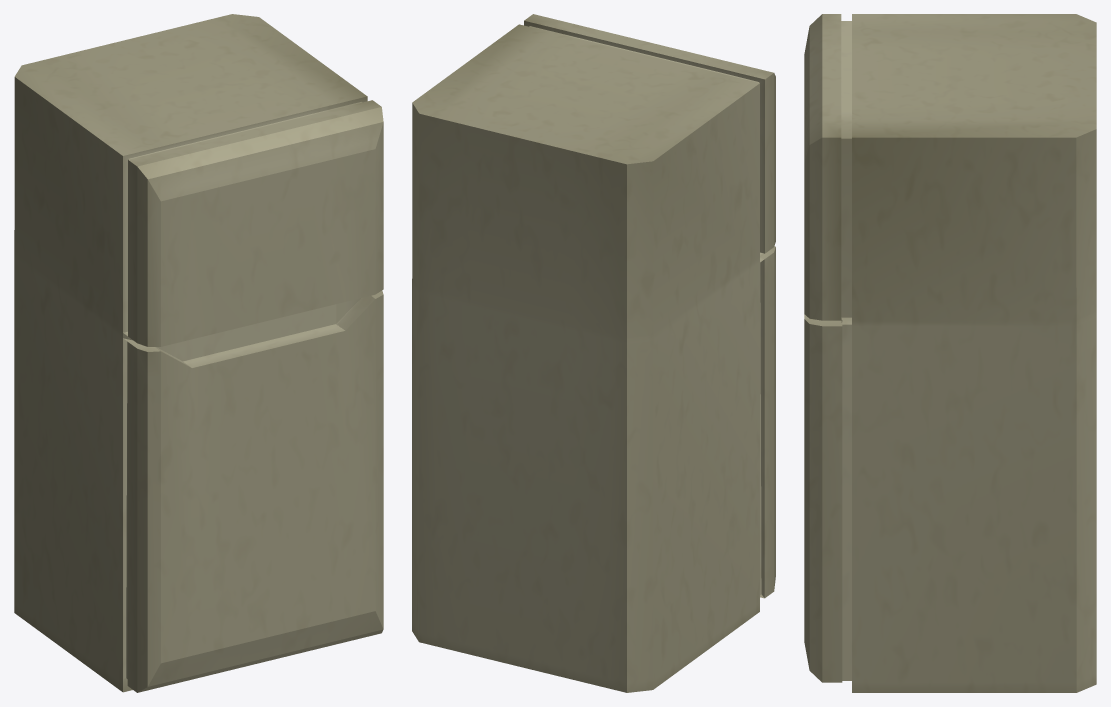
The model's file is Fridge.glb.
3 views of the same model, side by side, from view 1: azimuth 30°, elevation 25°; view 2: azimuth 150°, elevation 25°; view 3: azimuth 270°, elevation 25° (orthographic). The views are drawn at different scales.
Visible parts, largest first — view 1: Fridge; view 2: Fridge; view 3: Fridge.
Part boxes in pixels (<box>): Fridge: <box>14,14,383,692</box>; Fridge: <box>412,14,775,692</box>; Fridge: <box>804,14,1096,692</box>.
Size of the model in its own units: 15.2 by 31.87 by 15.2.
Materials: 1 (1 with a texture image).
